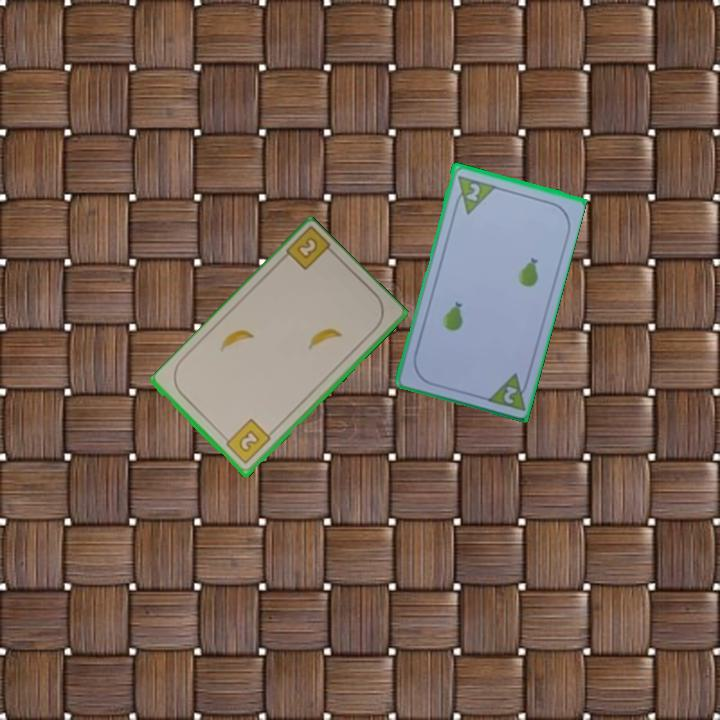2b: (220, 416, 274, 467), (293, 234, 321, 262)
2p: (482, 368, 532, 413), (450, 171, 497, 216)
